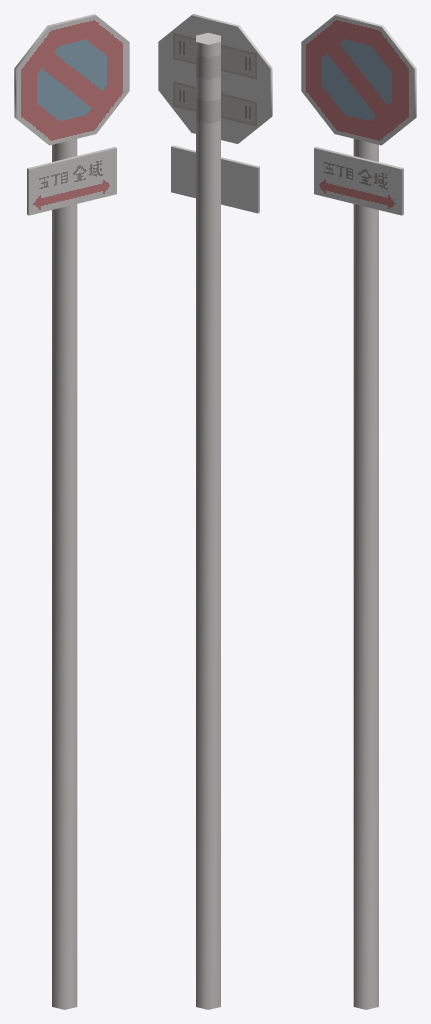
File: 00f0_No_Parking_Sign.glb
3 renders of one model, left to right at view 1: azimuth 30°, elevation 25°; view 2: azimuth 150°, elevation 25°; view 3: azimuth 330°, elevation 25°, orthographic.
Parts seen in each view (by area): view 1: part_0; view 2: part_0; view 3: part_0.
Boxes of the visible parts, x1,y1,x2,y2 form: part_0: (14, 14, 129, 1009); part_0: (158, 14, 272, 1009); part_0: (301, 14, 416, 1009).
Bounding box in the file's own units: 0.3603 × 3 × 0.0795.
Materials: 1 (1 with a texture image).
